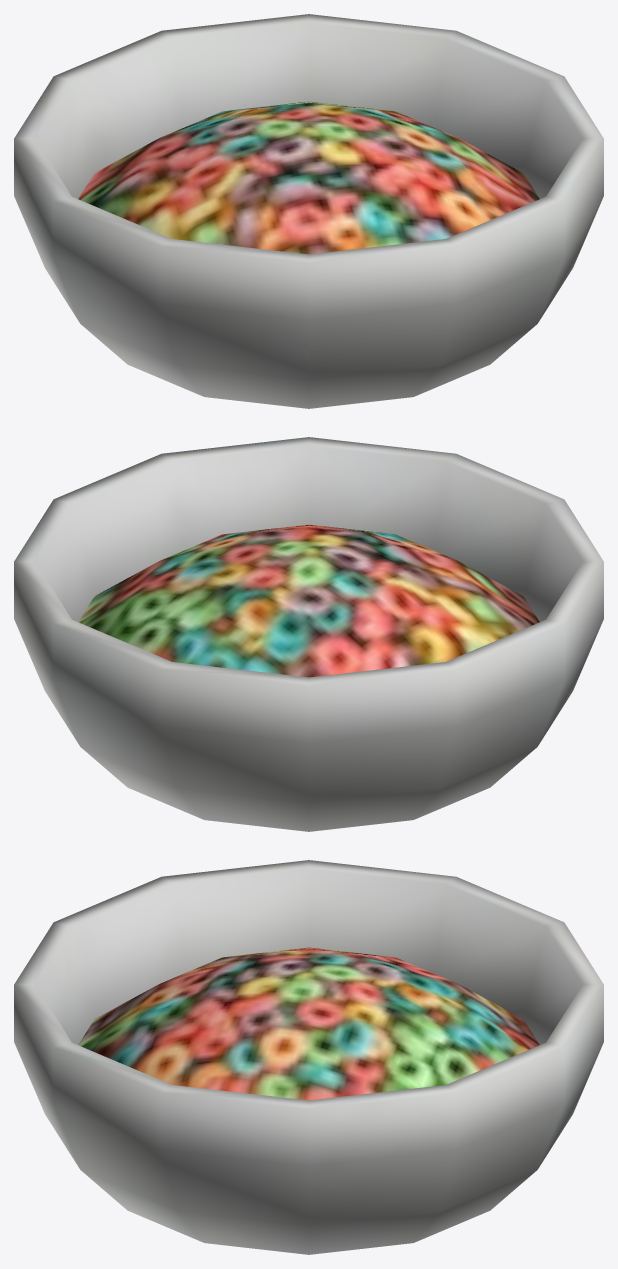
Rendered from stew-transformed.glb.
The picture shows the model from 3 angles, top to bottom: view 1: azimuth 30°, elevation 25°; view 2: azimuth 150°, elevation 25°; view 3: azimuth 270°, elevation 25°; orthographic projection.
Visible parts, largest first — view 1: bowl.01; view 2: bowl.01; view 3: bowl.01.
Boxes of the visible parts, box(x1,y1,x2,y2) form: bowl.01: box(14, 14, 603, 408); bowl.01: box(14, 437, 603, 831); bowl.01: box(14, 860, 603, 1254).
Bounding box in the file's own units: 0.2772 × 0.1138 × 0.2772.
1 material, 1 textured.
